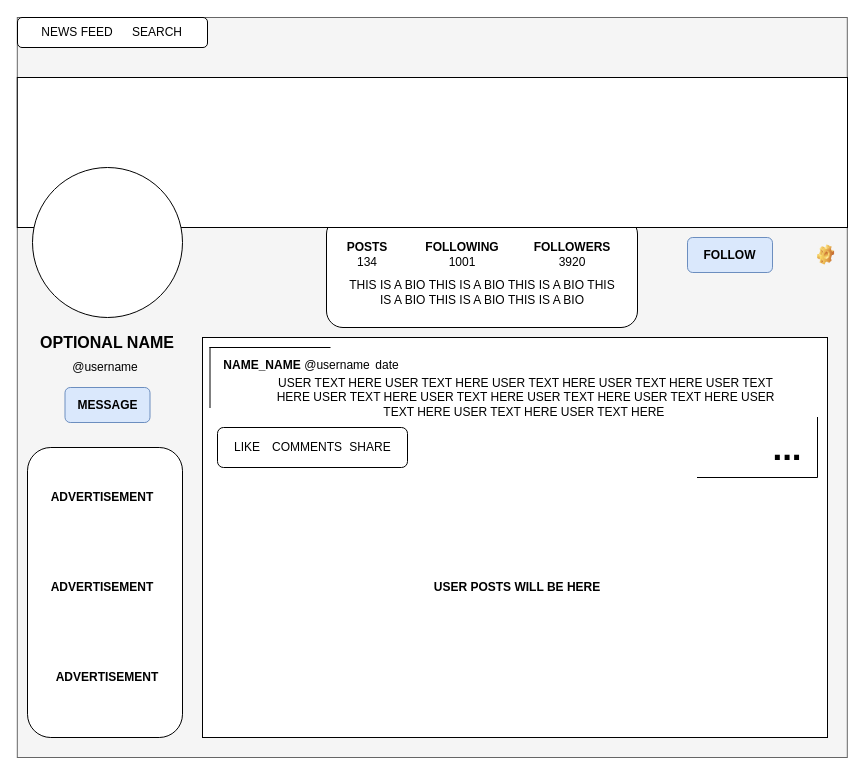
This 867x775 diagram has some shape labels left out. The centre of each missing label's shape, as x and y in pixels:
BACKGROUND IMAGE: (432,152)
USER IMAGE: (107,242)
